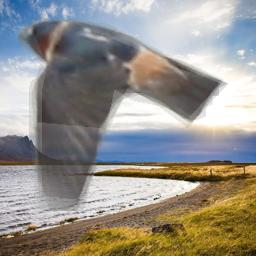Swallow: (18, 11, 228, 211)
